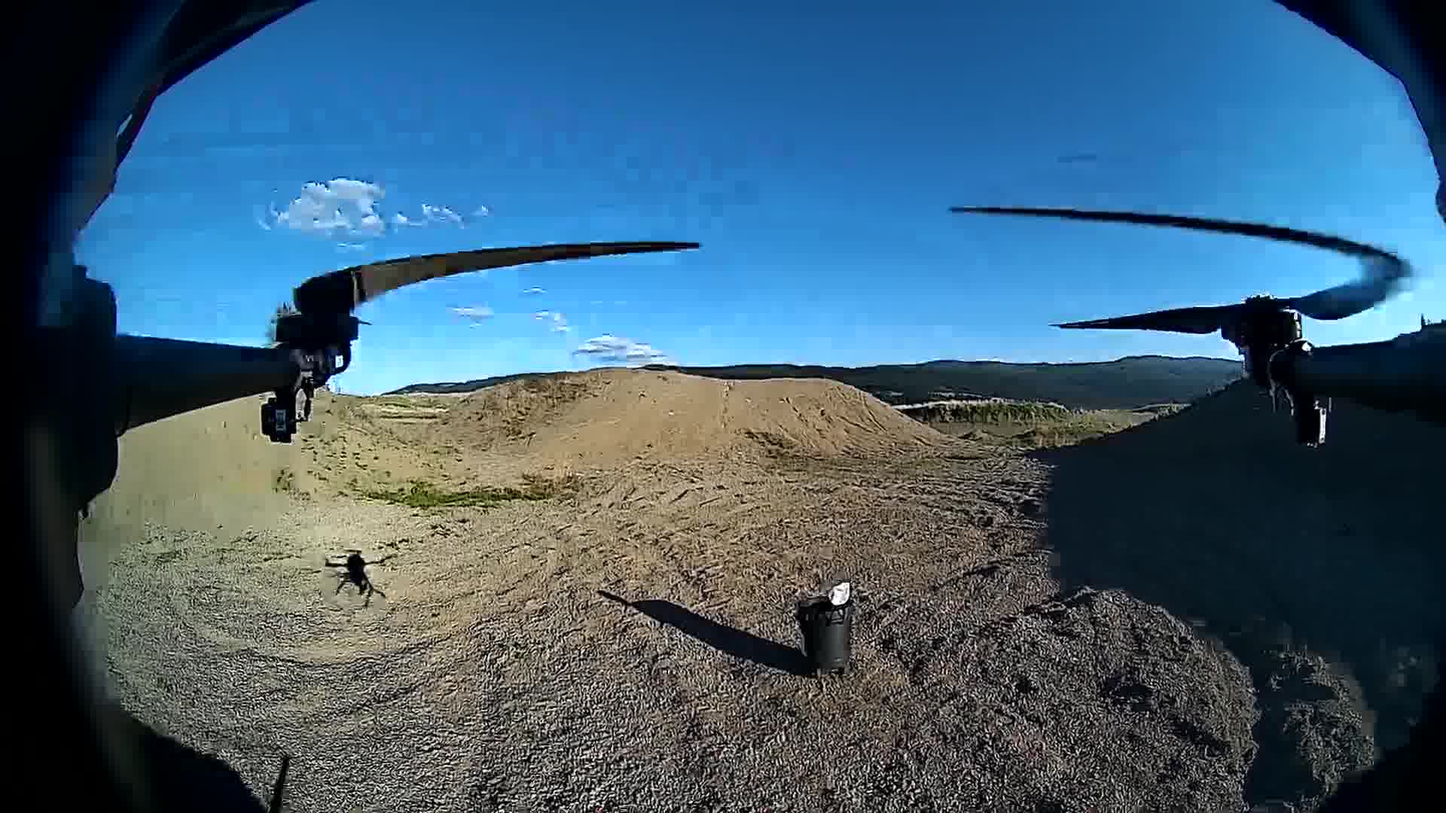Target: (826, 580, 858, 606)
